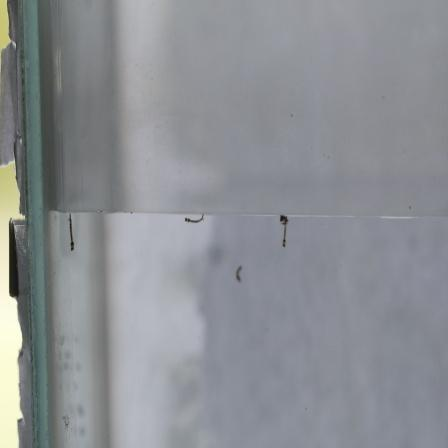Jentik-Nyamuk: (273, 210, 295, 252), (61, 213, 81, 255), (179, 212, 210, 229), (231, 260, 249, 288)
